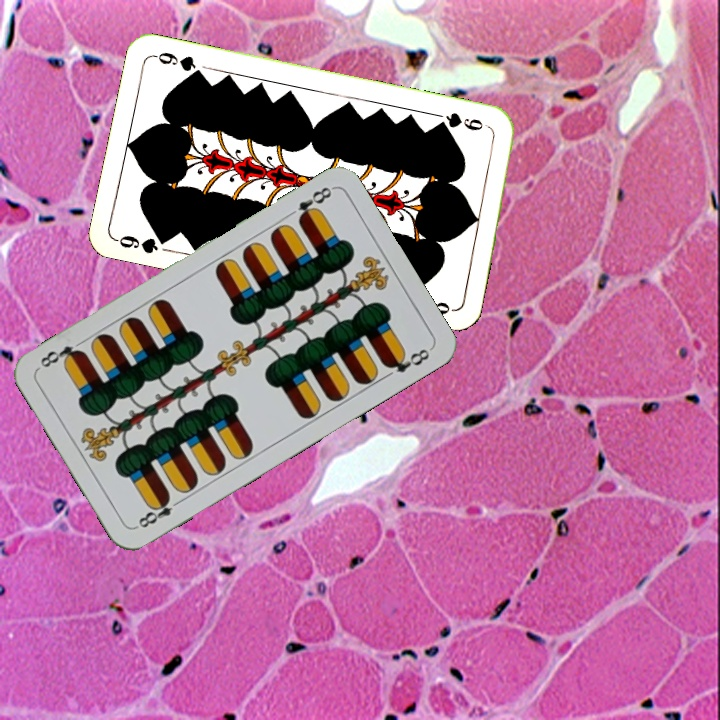E8: (132, 491, 185, 531), (293, 182, 335, 225)
G9: (112, 231, 173, 257), (433, 108, 493, 134)
